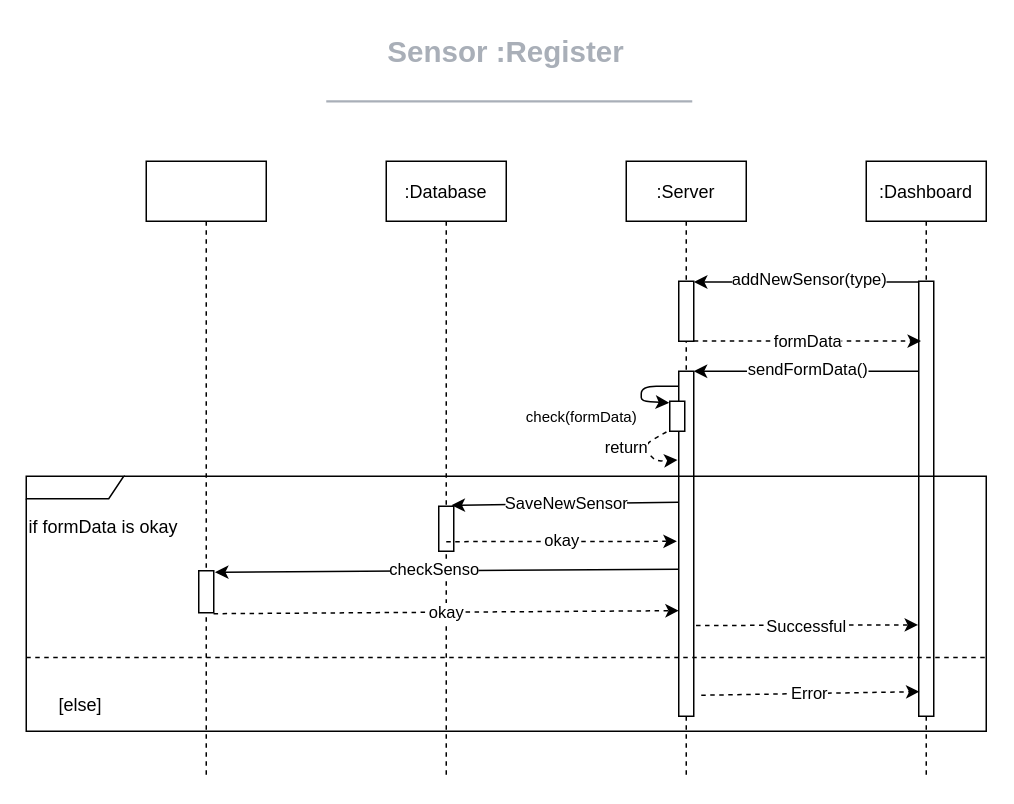
Image size: 1014x804. Some labels were removed from this diagram. The box of each missing label's shape, as (x1, y1, x2, y2) in pixels:
:Sensor: (145, 160, 266, 776)
alt: (25, 475, 986, 731)
